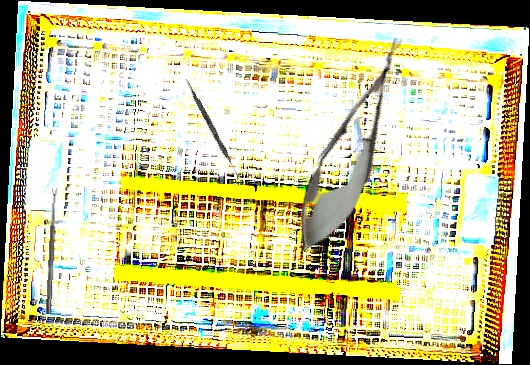Micro Scissor: (280, 27, 425, 264)
Spatula Surgical: (182, 78, 243, 180)
Surgical Spoon: (45, 187, 59, 315)
